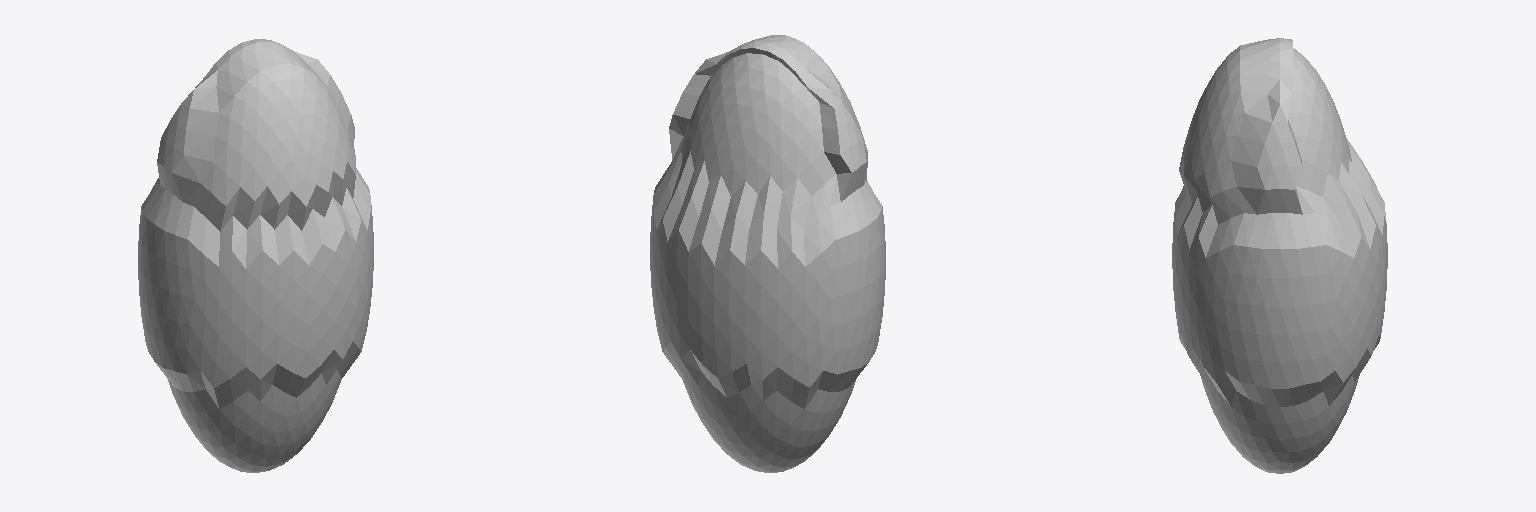
The model's file is slim_baseline.obj.
The picture shows the model from 3 angles: view 1: azimuth 30°, elevation 25°; view 2: azimuth 150°, elevation 25°; view 3: azimuth 270°, elevation 25°; orthographic projection.
Bounding box in the file's own units: 0.8877 × 1.72 × 0.788.